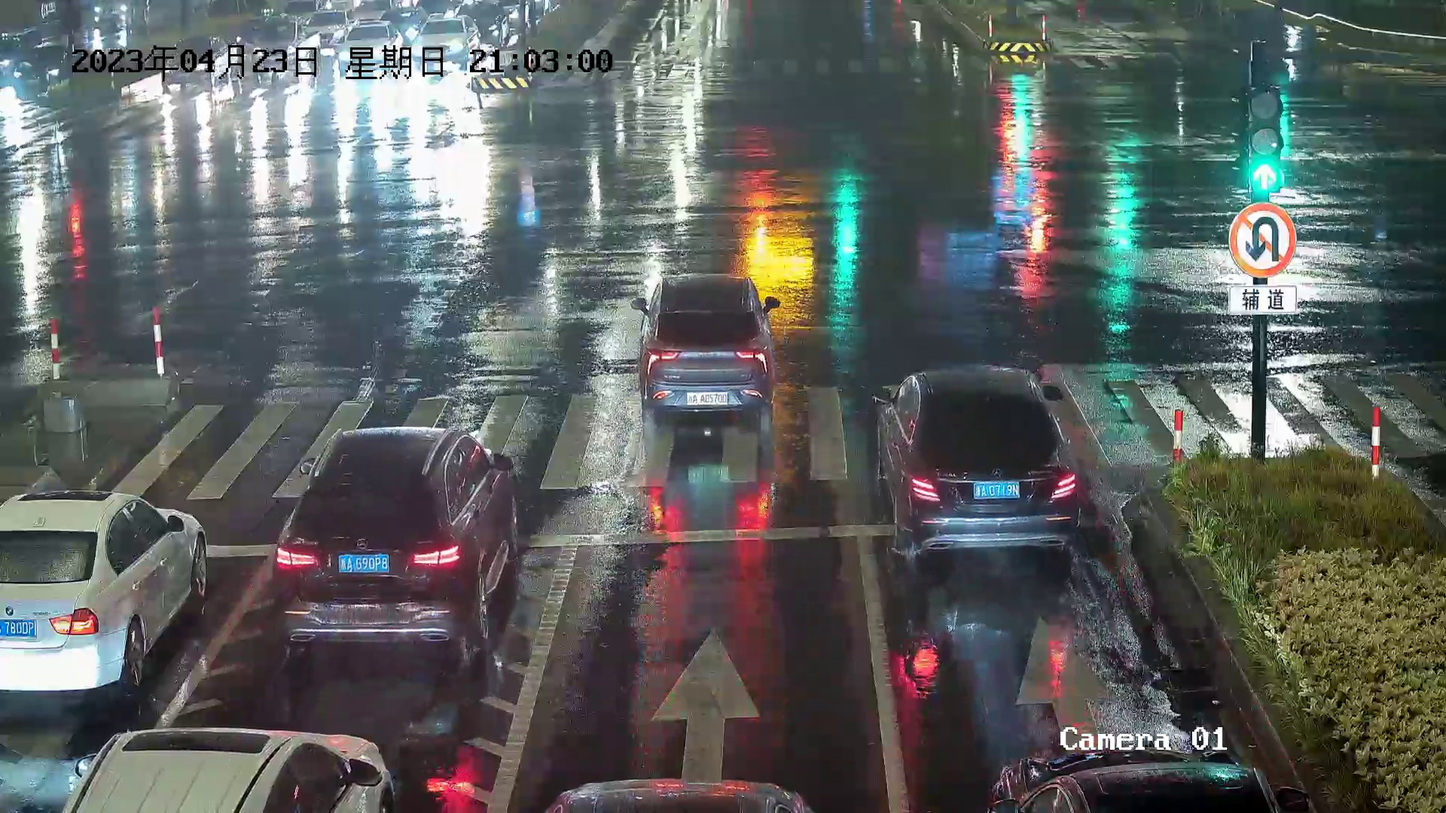vehicle: (266, 416, 520, 660), (1, 484, 211, 699), (868, 364, 1083, 562), (627, 266, 781, 419)
